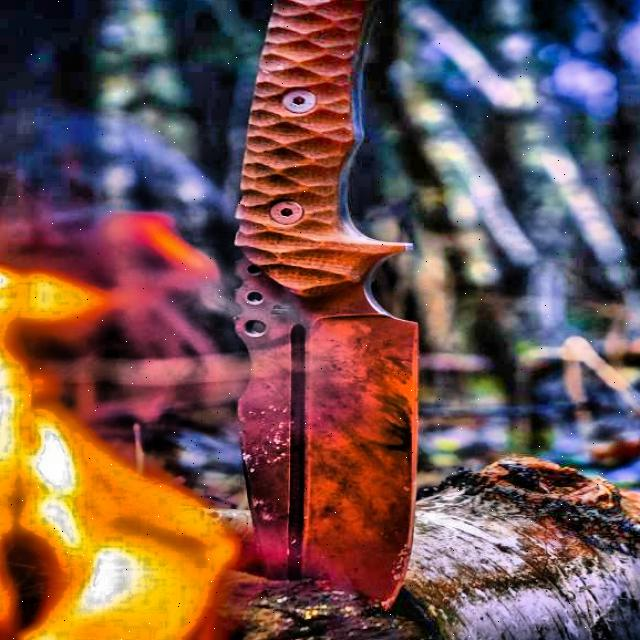knife: (235, 0, 433, 632)
